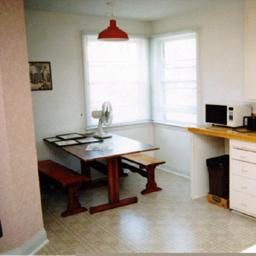Bote de Basura: (206, 156, 228, 209)
Ventana: (85, 34, 153, 125), (153, 38, 201, 127)
